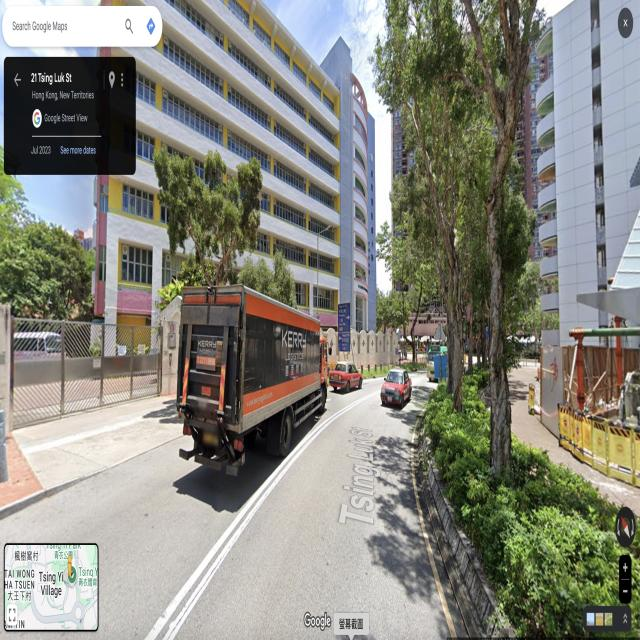Direction-Sign: (338, 303, 350, 350)
